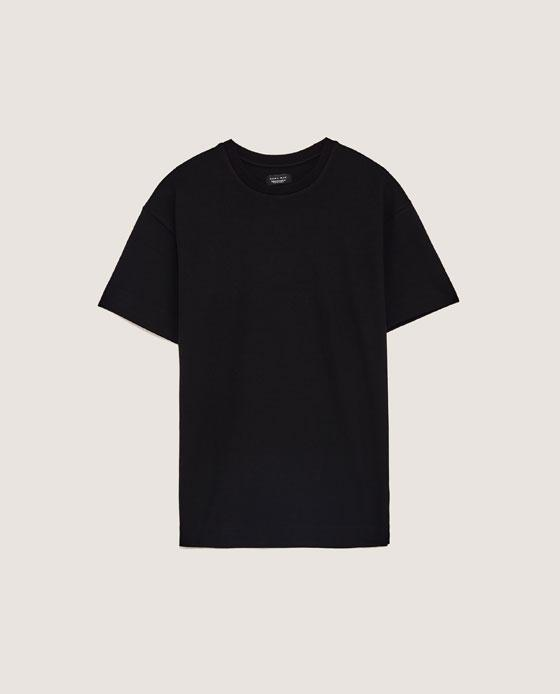teeshirt: (71, 136, 464, 589)
